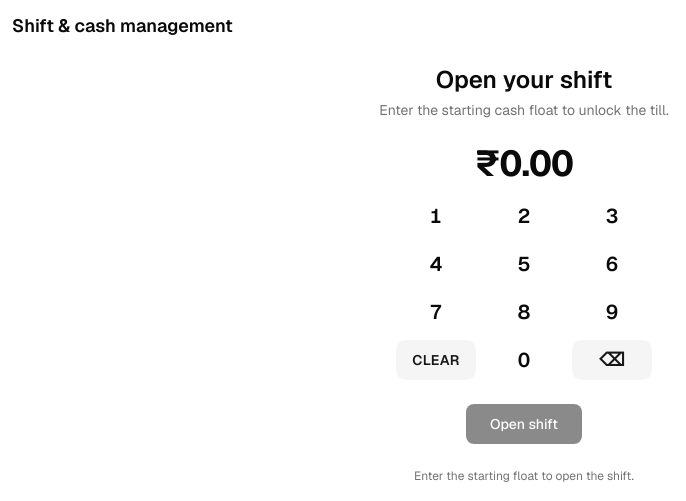
ShiftScreen - open shift › shows the open-shift form when there's no shift, with submit disabled until a float is entered
The image size is (686, 501).
Check: the element with test id "open-shift-form" is shown, box [379,64,669,484]
Check: the button with test id "open-shift-submit" is disabled, box [466,404,582,444]
Click the button with test id "open-shift-keypad-digit-5": (524, 264) [484,244,564,284]
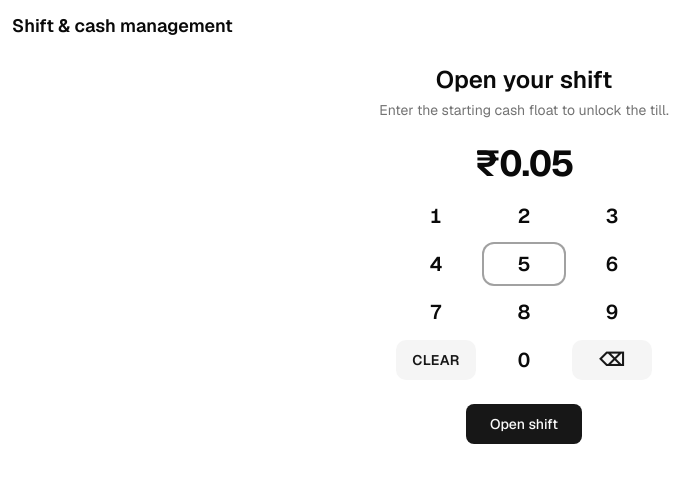
Click the button with test id "open-shift-keypad-digit-0": (524, 360) [484,340,564,380]
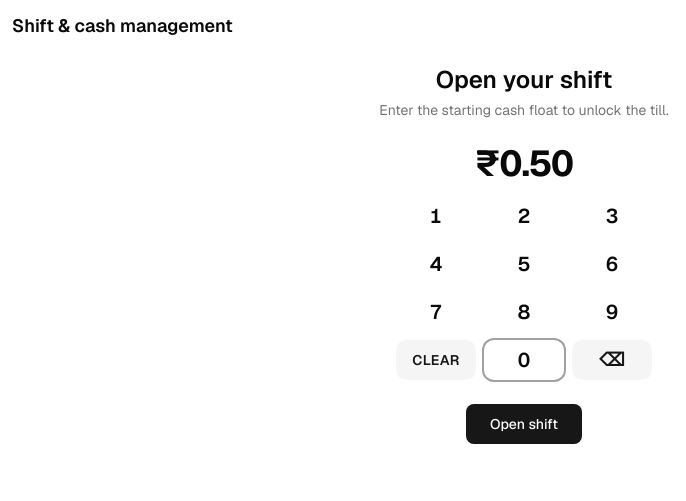
Click the button with test id "open-shift-keypad-digit-0": (524, 360) [484,340,564,380]
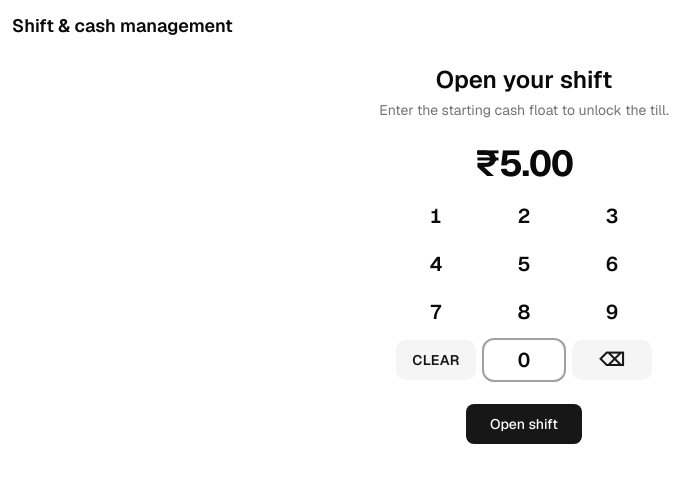
Check: the button with test id "open-shift-submit" is enabled, box [466,404,582,444]
Check: the text with test id "open-shift-keypad-display" reads "₹5.00", box [475,140,573,187]
